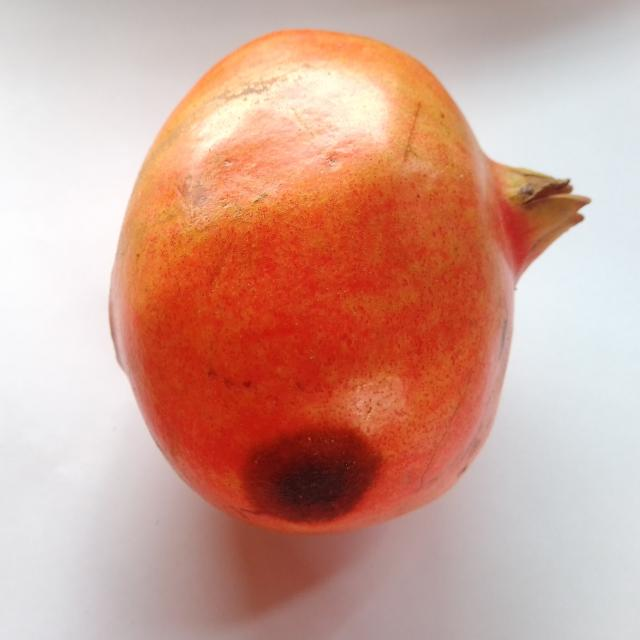Rotten: (105, 23, 586, 537)
